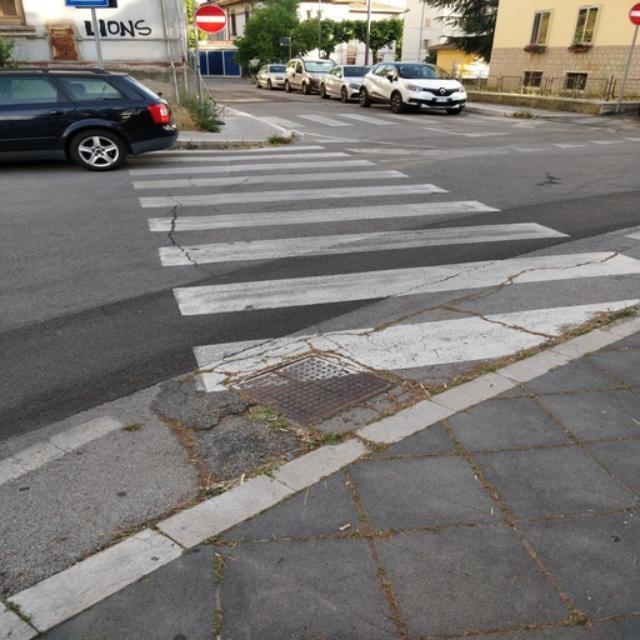sidewalk: (116, 142, 640, 392)
